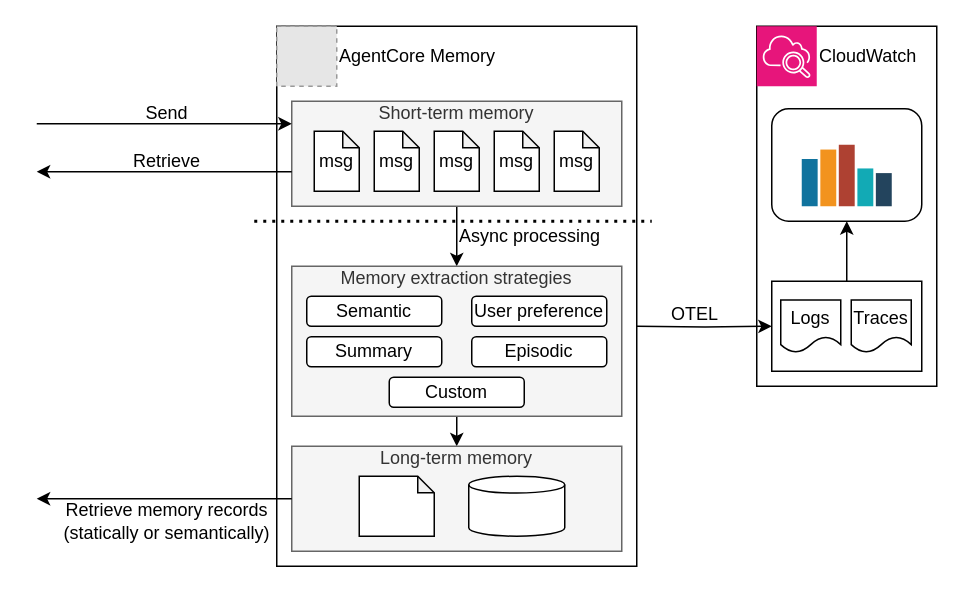
Some shapes in this 963 by 593 pixel diagram are drawn without their labels. Grey dashed boxes stand in for pictures. Here are the shapes that lost their labels. From the top down, the centre of each, then its label:
[846,164]: Dashboard
[396,505]: Memory records
[516,505]: Vector DB
